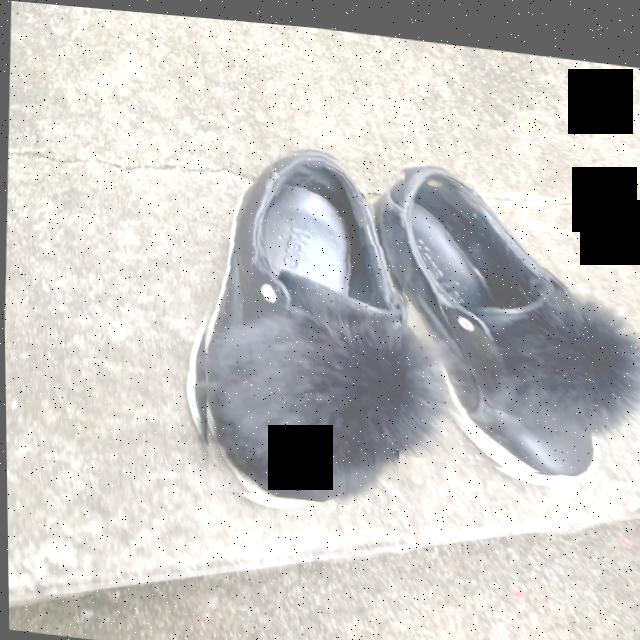shoe: (376, 159, 640, 465), (203, 148, 401, 496)
